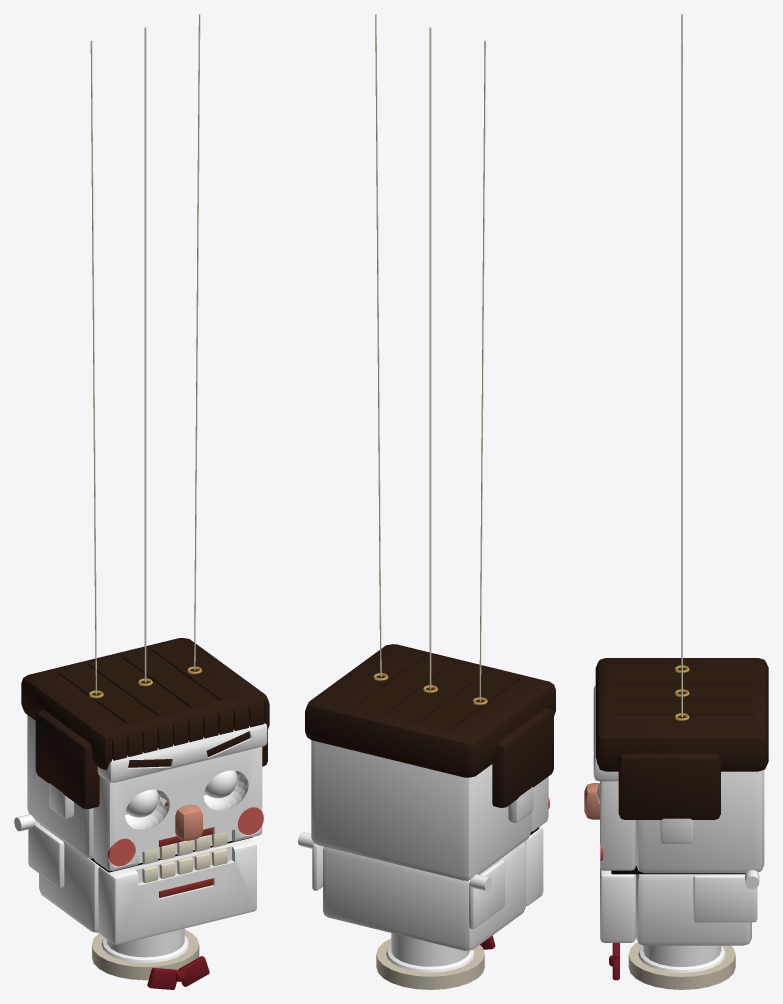
The model's file is cubo.glb.
The picture shows the model from 3 angles, left to right: view 1: azimuth 30°, elevation 25°; view 2: azimuth 150°, elevation 25°; view 3: azimuth 270°, elevation 25°; orthographic projection.
Visible parts, largest first — view 1: Cabelo, PlacaRosto, QueixoPlaca, Costeleta-1, VigaTesta, Miolo, QueixoMiolo, Corda1, Colarinho, ChapaDobradica-1, Corda2, Corda0 (+9 smaller); view 2: Cabelo, Miolo, QueixoMiolo, Costeleta-1, Colarinho, Corda1, Pescoco, ChapaDobradica-1, Corda2, Corda0, QueixoPlaca, PlacaRosto (+2 smaller); view 3: Cabelo, Miolo, Costeleta1, QueixoMiolo, ChapaDobradica1, PlacaRosto, QueixoPlaca, Colarinho, Pescoco, Corda2, Orelha1, Torus.001 (+2 smaller).
Boxes of the visible parts, x1,y1,x2,y2 form: Cabelo: (21,638,269,769); PlacaRosto: (93,747,262,870); QueixoPlaca: (98,838,256,944); Costeleta-1: (35,710,99,808); VigaTesta: (97,723,267,782); Miolo: (27,715,206,858); QueixoMiolo: (39,824,99,932); Corda1: (144,27,146,682); Colarinho: (92,929,199,980); ChapaDobradica-1: (28,822,64,887); Corda2: (194,14,200,670); Corda0: (90,40,96,694); Cabelo: (305,644,555,777); Miolo: (311,740,531,880); QueixoMiolo: (323,841,526,950); Costeleta-1: (492,708,553,807); Colarinho: (376,938,484,989); Corda1: (429,27,431,689); Pescoco: (391,933,469,966); ChapaDobradica-1: (469,860,504,928); Corda2: (375,14,381,677); Corda0: (479,40,485,701); QueixoPlaca: (525,826,543,905); PlacaRosto: (531,776,548,831); Cabelo: (595,658,768,771); Miolo: (636,770,764,873); Costeleta1: (618,753,720,819); QueixoMiolo: (636,874,751,945); ChapaDobradica1: (693,875,757,922); PlacaRosto: (600,781,635,870); QueixoPlaca: (600,867,635,942); Colarinho: (628,942,735,989); Pescoco: (643,945,721,966); Corda2: (681,66,682,717); Orelha1: (659,818,694,843); Torus.001: (638,945,725,972).
Bounding box in the file's own units: 2.08 × 10 × 1.79.
